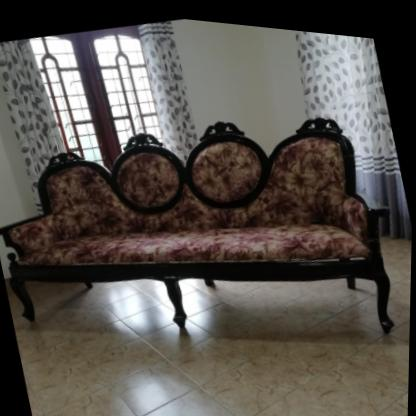Ceramic floor: (9, 229, 413, 416)
Curtains: (296, 24, 413, 232), (0, 38, 66, 187), (137, 17, 199, 156)
Sofa: (0, 70, 404, 403)
